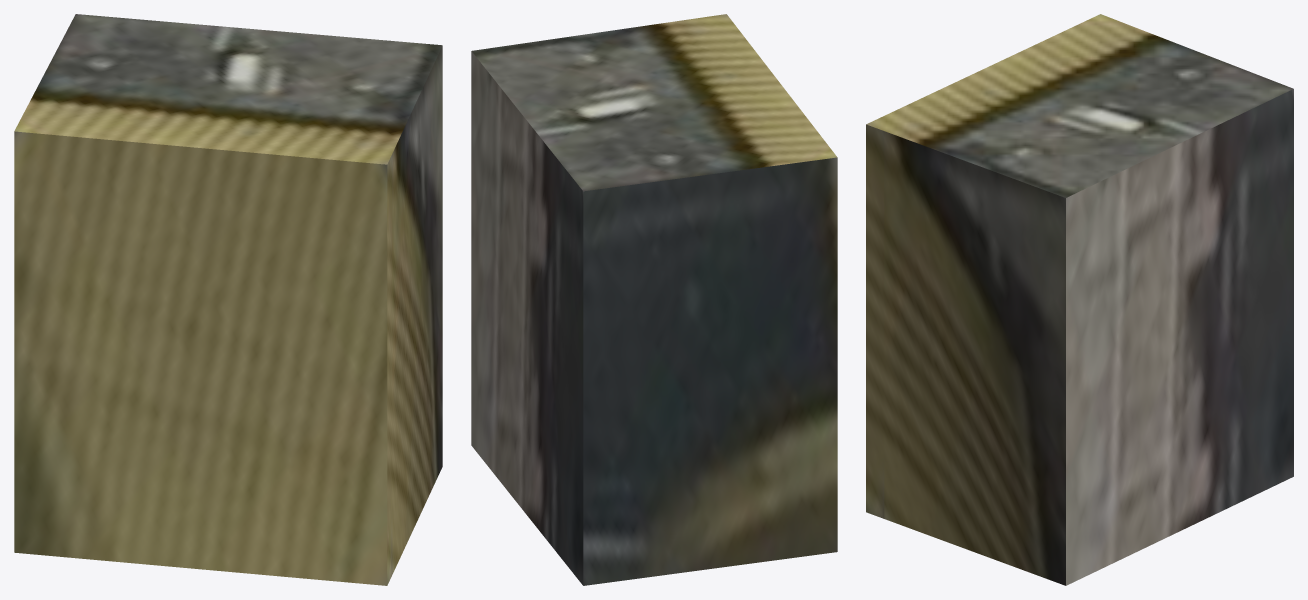
File: {6D4B5EE0-E2B7-4BFC-A455-711803D6845B}.gltf
3 views of the same model, side by side, from view 1: azimuth 30°, elevation 25°; view 2: azimuth 150°, elevation 25°; view 3: azimuth 270°, elevation 25° (orthographic). The views are drawn at different scales.
Parts seen in each view (by area): view 1: Z_UP; view 2: Z_UP; view 3: Z_UP.
Part boxes in pixels (x1,y1,x2,y2): Z_UP: [14, 14, 442, 585]; Z_UP: [471, 14, 837, 585]; Z_UP: [866, 14, 1293, 585].
Size of the model in its own units: 6.67 by 6.55 by 6.55.
Materials: 2 (1 with a texture image).
